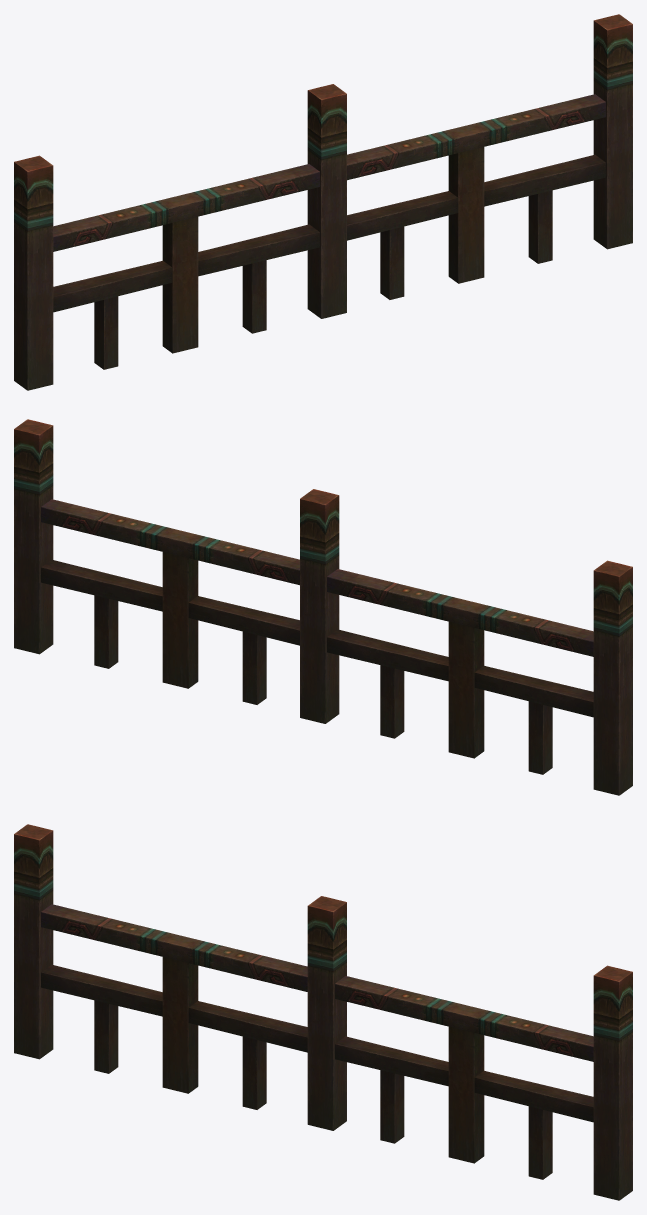
Rendered from environment_common_muzhalan_002_a.FBX.
The picture shows the model from 3 angles, top to bottom: view 1: azimuth 30°, elevation 25°; view 2: azimuth 150°, elevation 25°; view 3: azimuth 330°, elevation 25°; orthographic projection.
Visible parts, largest first — view 1: environment_common_muzhalan_002_a01, environment_common_muzhalan_002_a02; view 2: environment_common_muzhalan_002_a01, environment_common_muzhalan_002_a02; view 3: environment_common_muzhalan_002_a01, environment_common_muzhalan_002_a02.
Part boxes in pixels (x1,y1,x2,y2): environment_common_muzhalan_002_a01: (14,84,346,390); environment_common_muzhalan_002_a02: (347,14,632,299); environment_common_muzhalan_002_a01: (300,489,632,795); environment_common_muzhalan_002_a02: (14,419,299,704); environment_common_muzhalan_002_a01: (14,824,346,1130); environment_common_muzhalan_002_a02: (335,965,632,1200).
Bounding box in the file's own units: 264 × 91.15 × 10.3.
